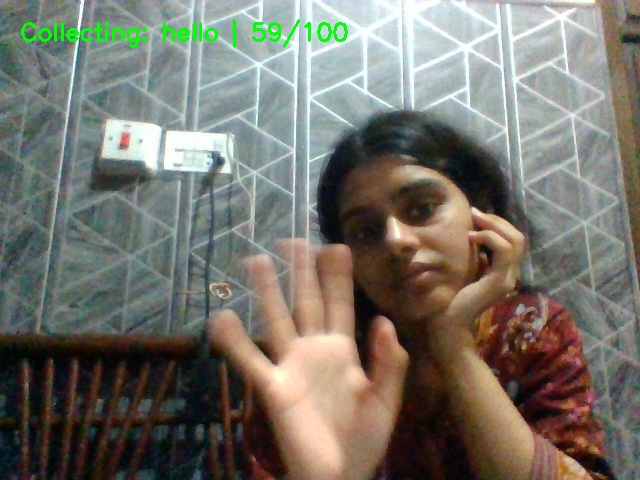hello: (204, 233, 413, 480)
